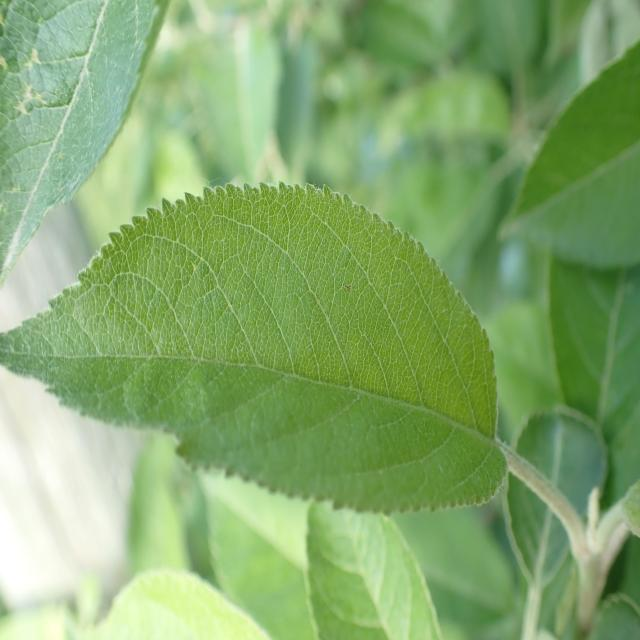healthy: (1, 180, 508, 515), (0, 0, 165, 285), (304, 498, 442, 640)
